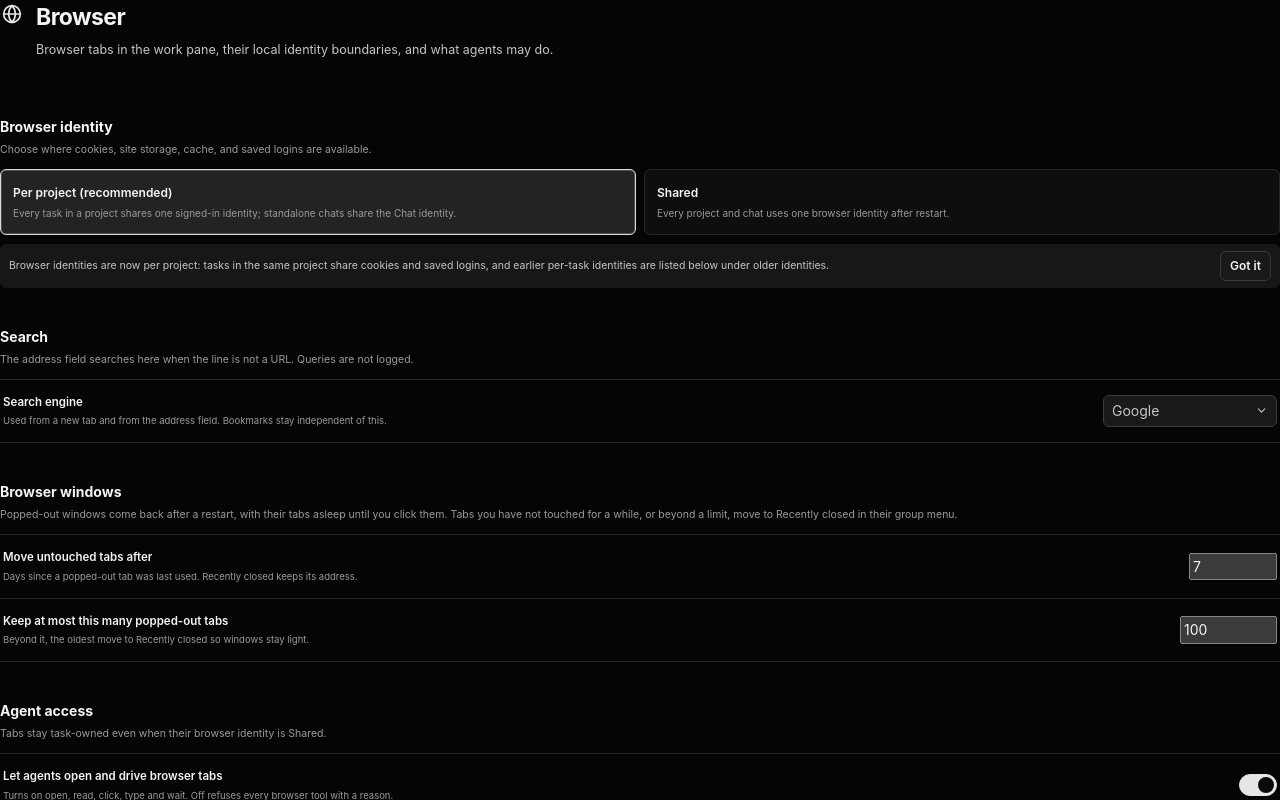
Test: BrowserSettings › cancels the Shared merge without changing anything
The image size is (1280, 800).
Click the radio button labelled "Shared". click: point(678, 192)
box: [644,169,1279,235]
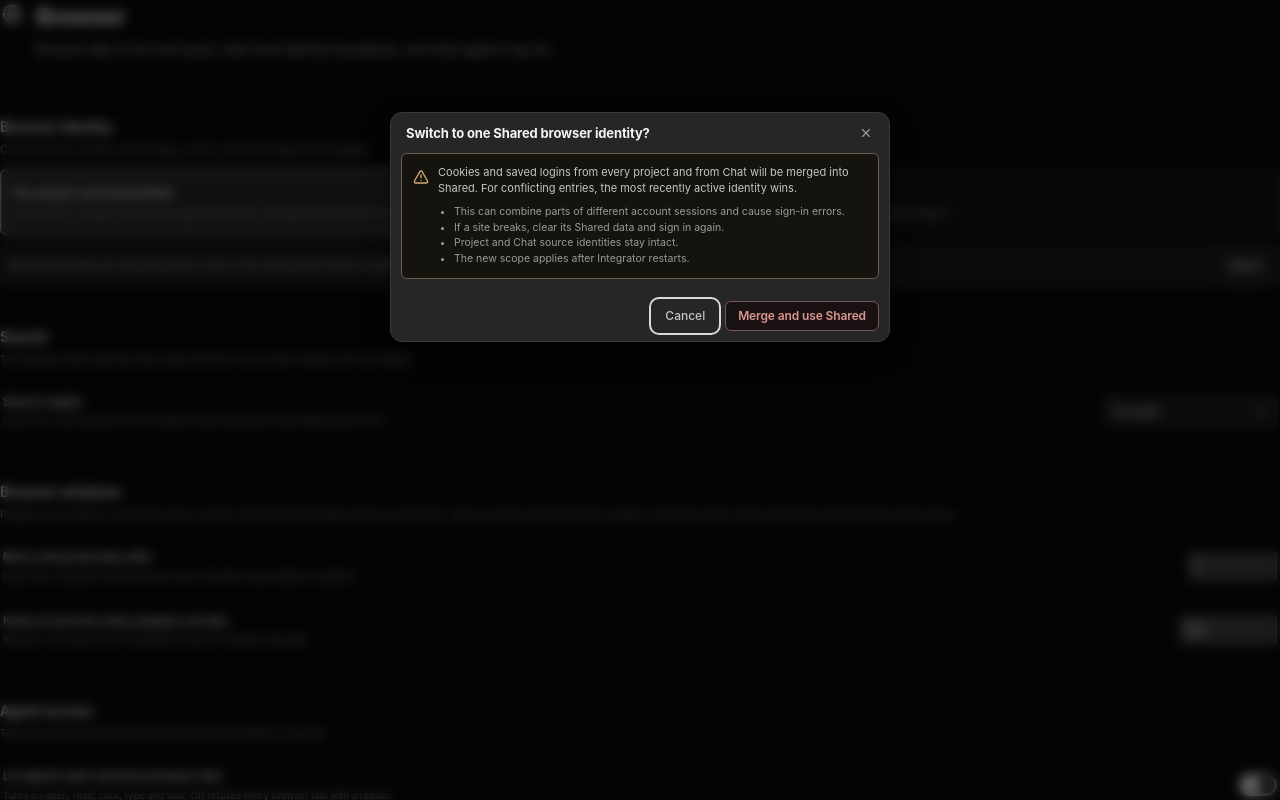
Check: the text "most recently active identity wins" is shown, box [438,165,849,195]
Check: the list item "sign-in errors" is shown, box [454,205,845,218]
Press Escape in the dialog "Switch to one Shared browser identity?", box [390,112,890,342]
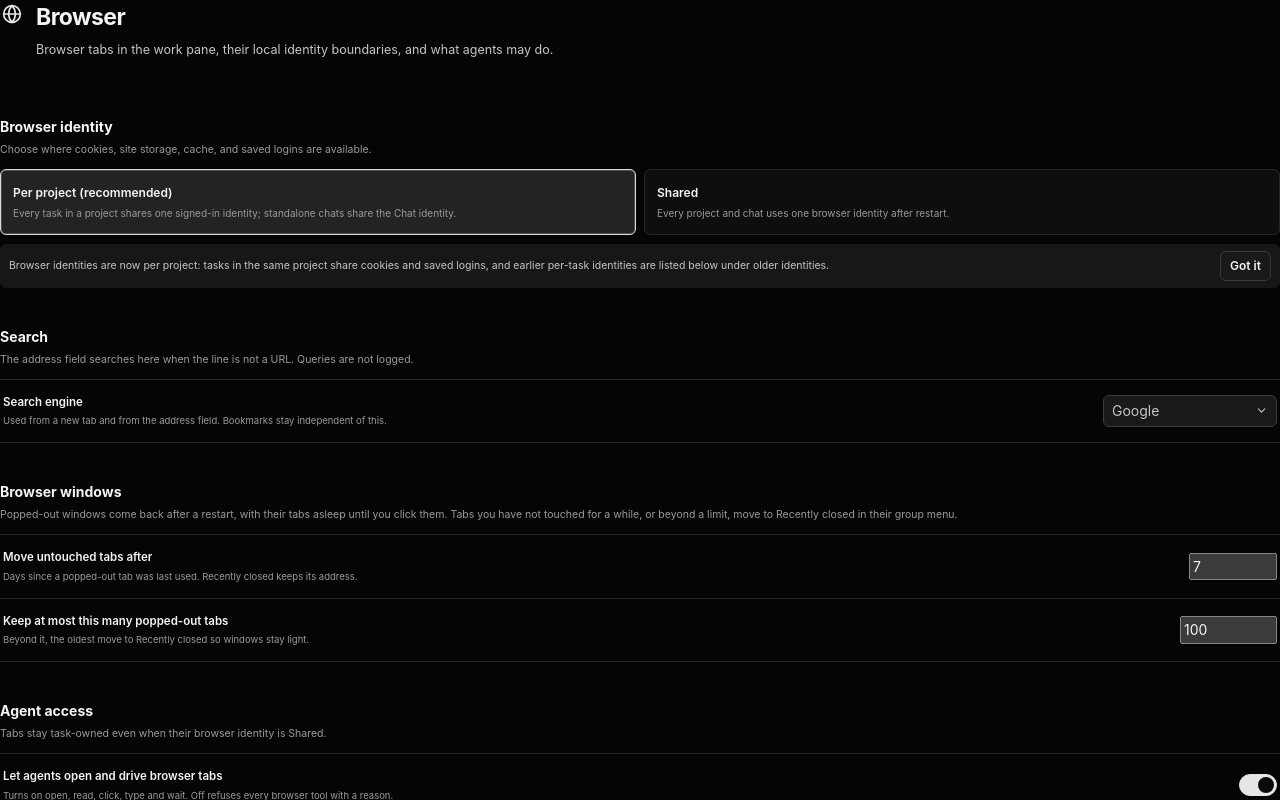
Check: the dialog is gone
